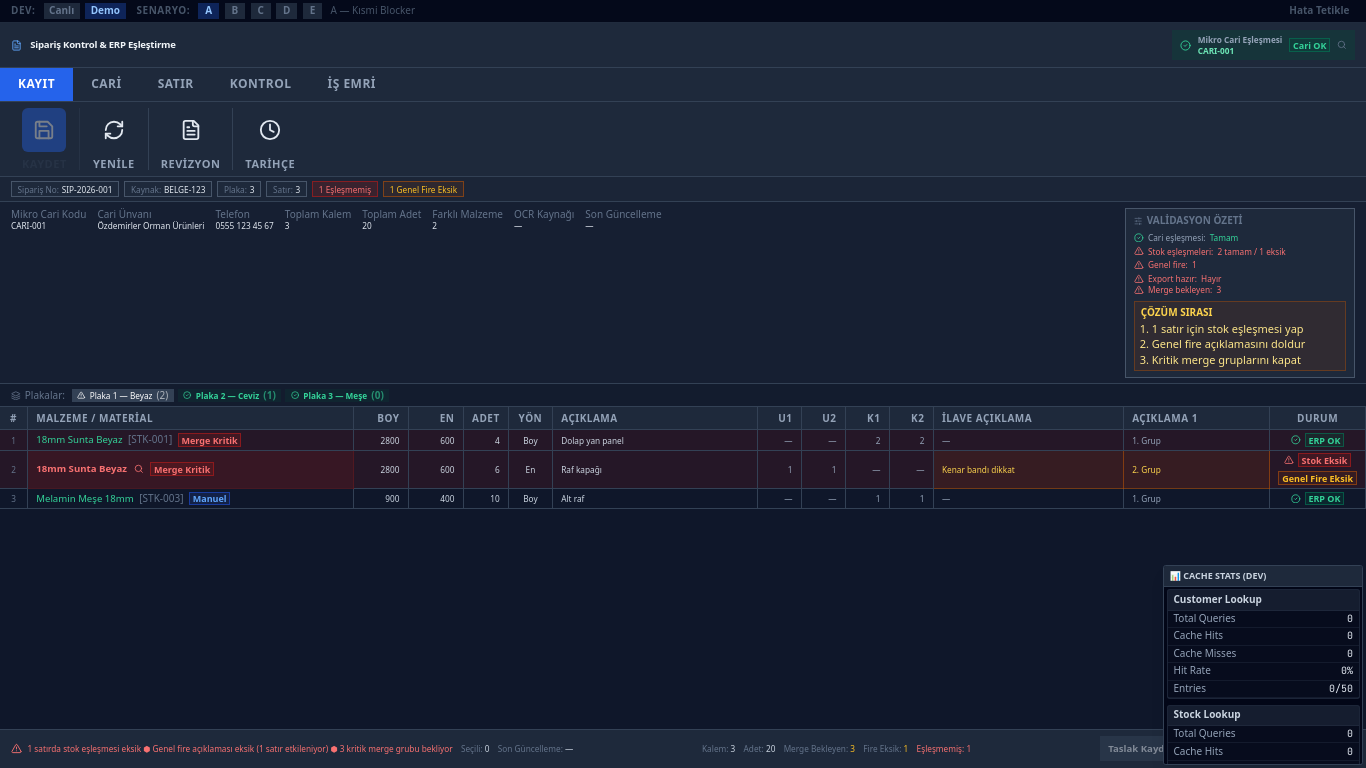
Test case: SiparisKontrolPage › Cari Ara modalı açılır
What coordinates should you click on to do the following:
click the tab "CARİ"
I would click on:
 (106, 84)
Its box is [73,68,140,101].
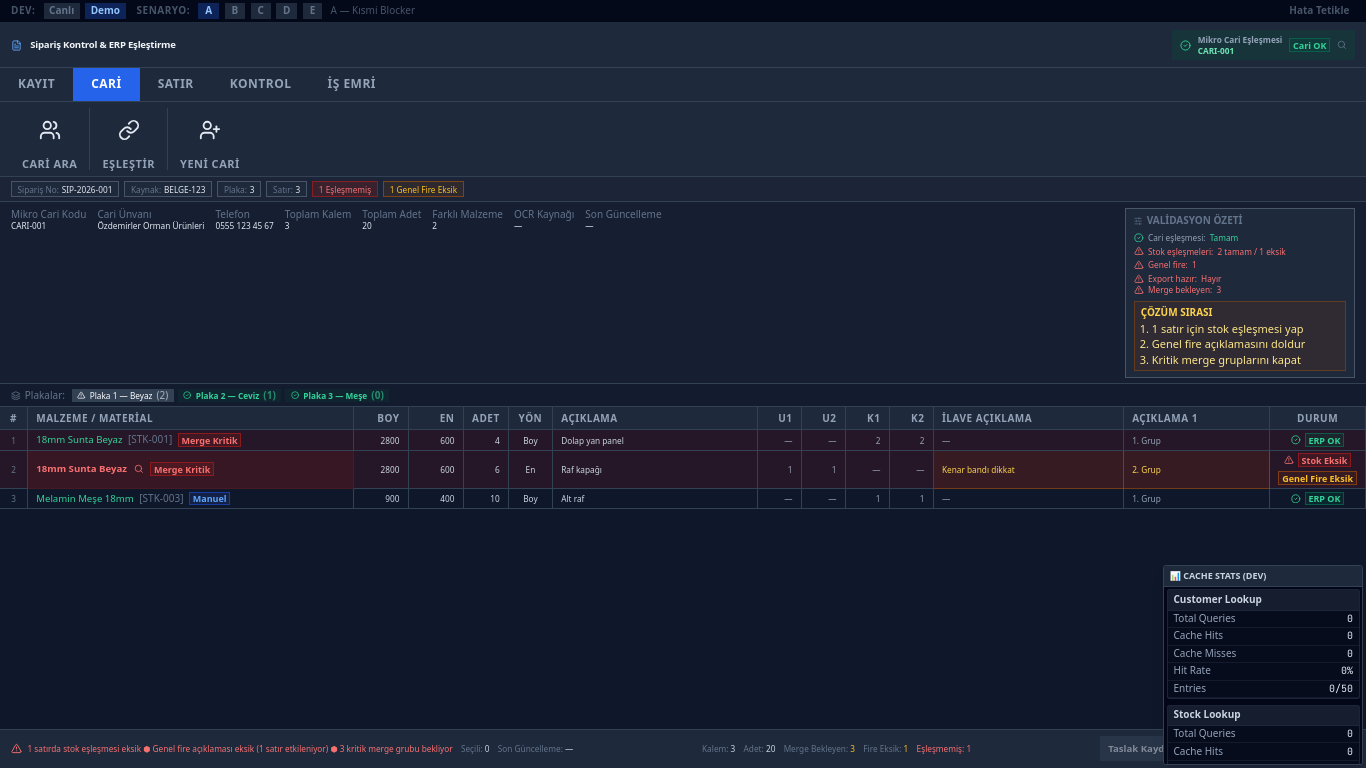
What coordinates should you click on to do the following:
click the button named "Cari Ara"
I would click on:
 (50, 130)
Its box is [28,108,72,152].
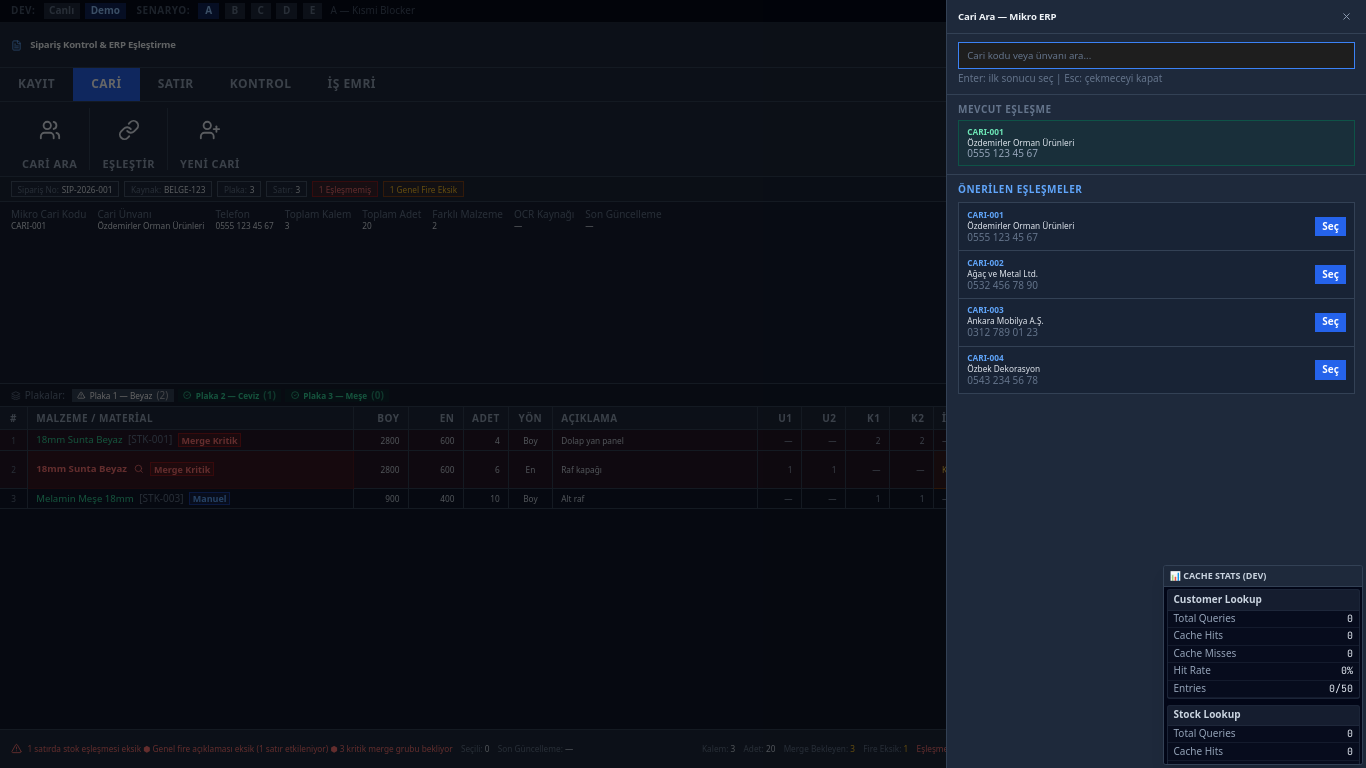
Result: the dialog is shown at [946,0,1365,767]
Result: the text "Enter: ilk sonucu seç | Esc: çekmeceyi kapat" is shown at [958,71,1162,85]
